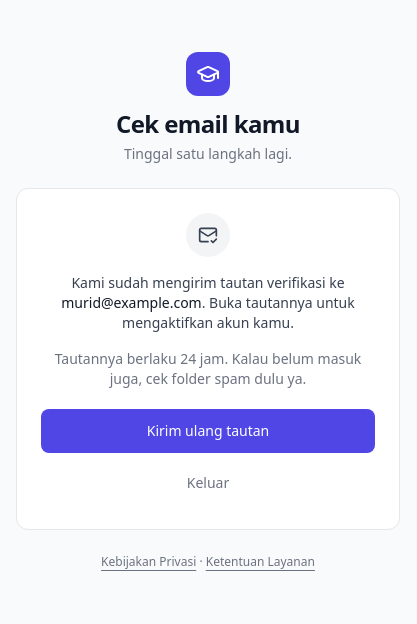
Test case: VerifyPendingPage › resends without claiming a message definitely went out
Step 1. Click the button "Kirim ulang tautan" → (208, 431), box [41, 409, 375, 453]
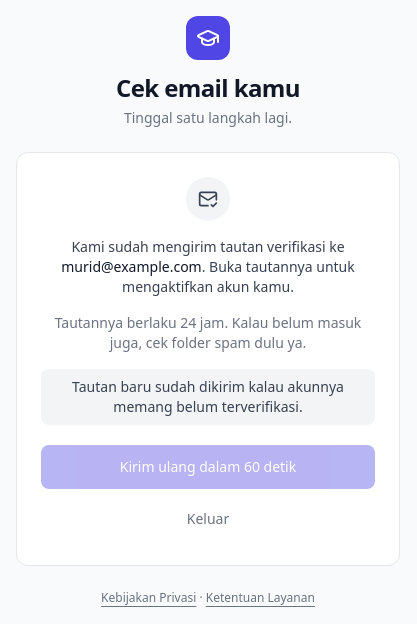
Check: the message shows "kalau", box [72, 377, 344, 416]
